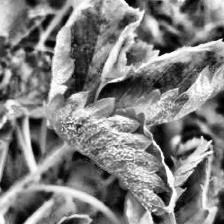Powdery Mildew Leaf: (42, 90, 182, 224), (95, 36, 224, 126), (47, 0, 145, 106)
